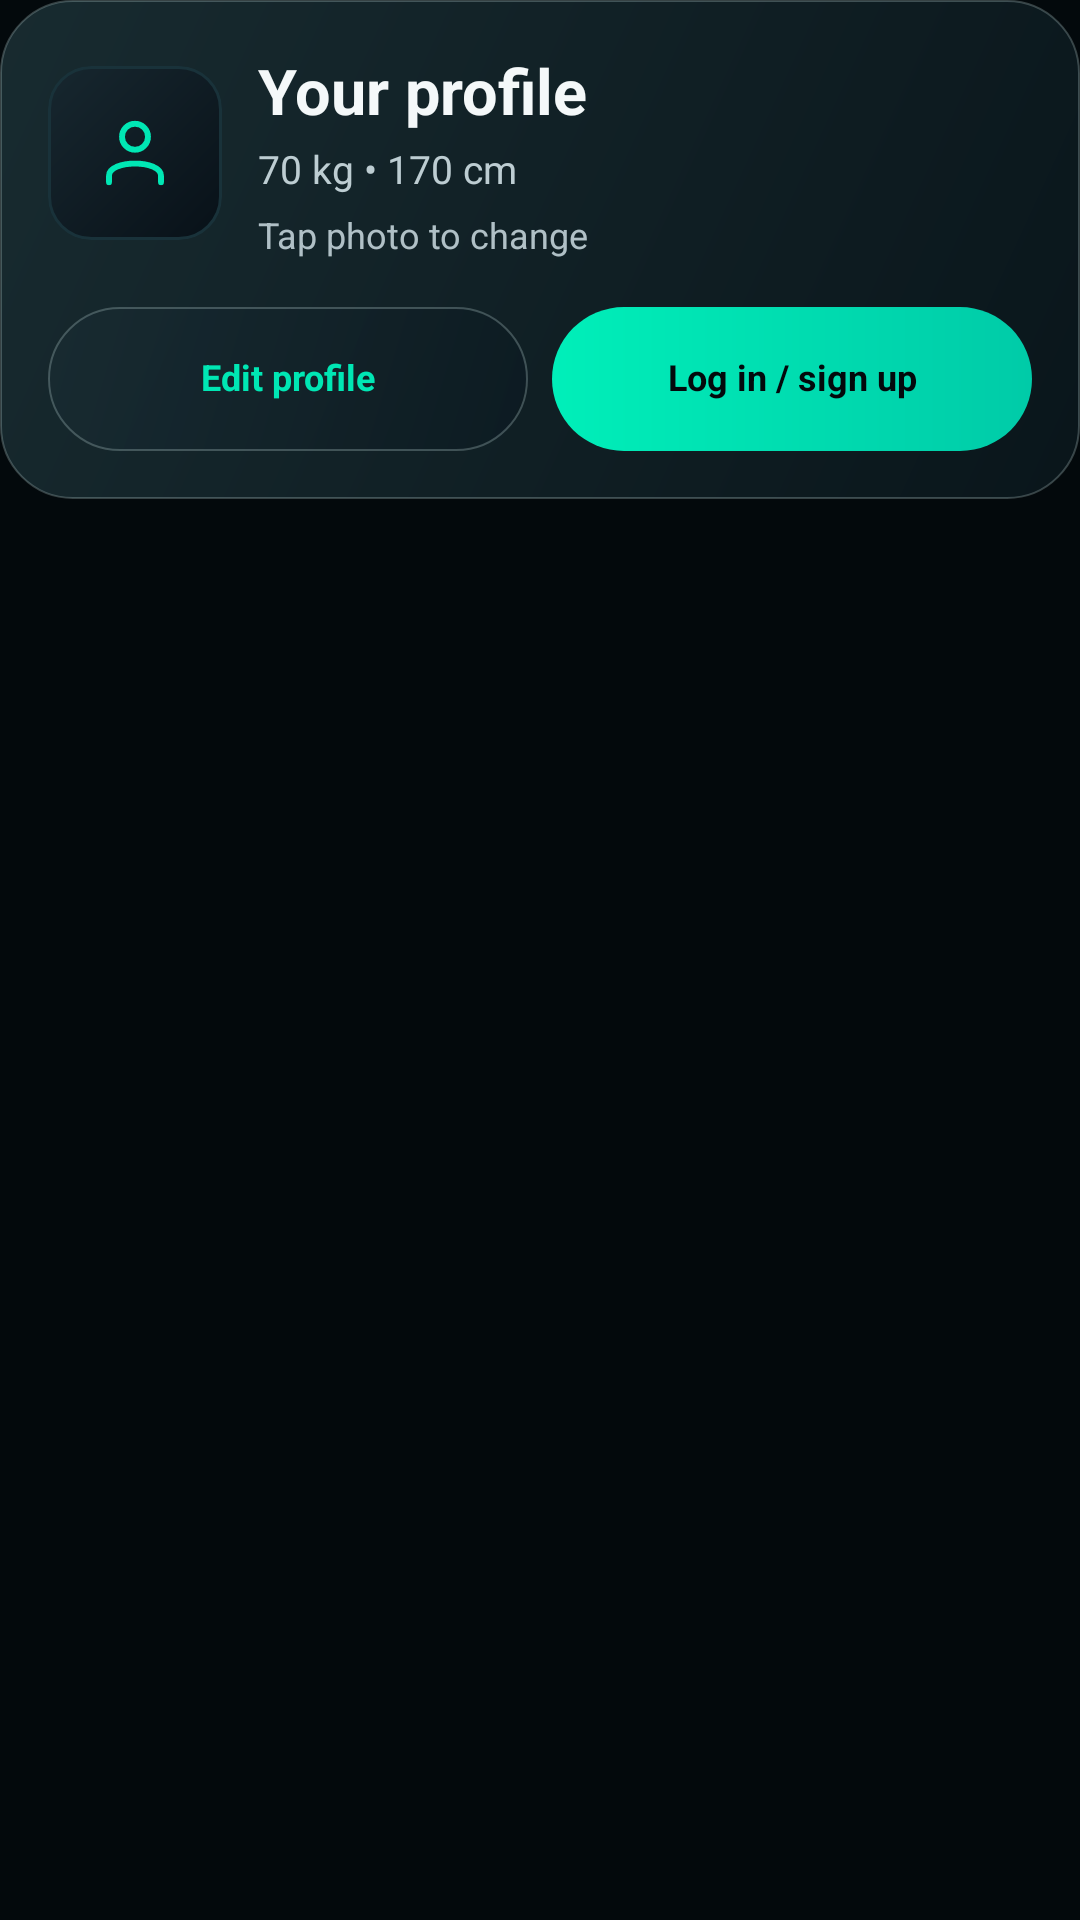

Icons on this 1080 x 1920 Android screen, each with the point to tap as [x,y]:
ui profile: [135,153]
